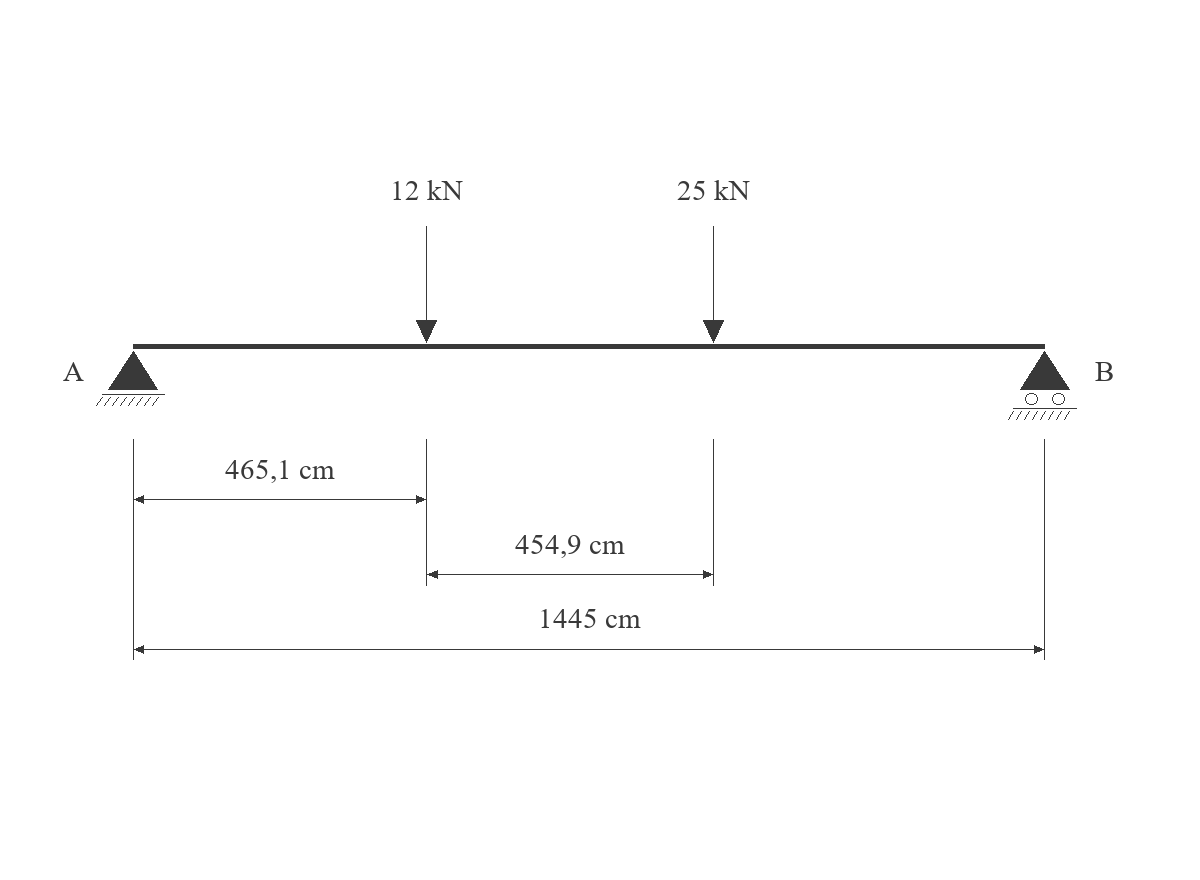pin_support: (96, 351, 165, 406)
point_load: (416, 226, 437, 343), (703, 226, 724, 343)
roller_support: (1008, 351, 1077, 420)
